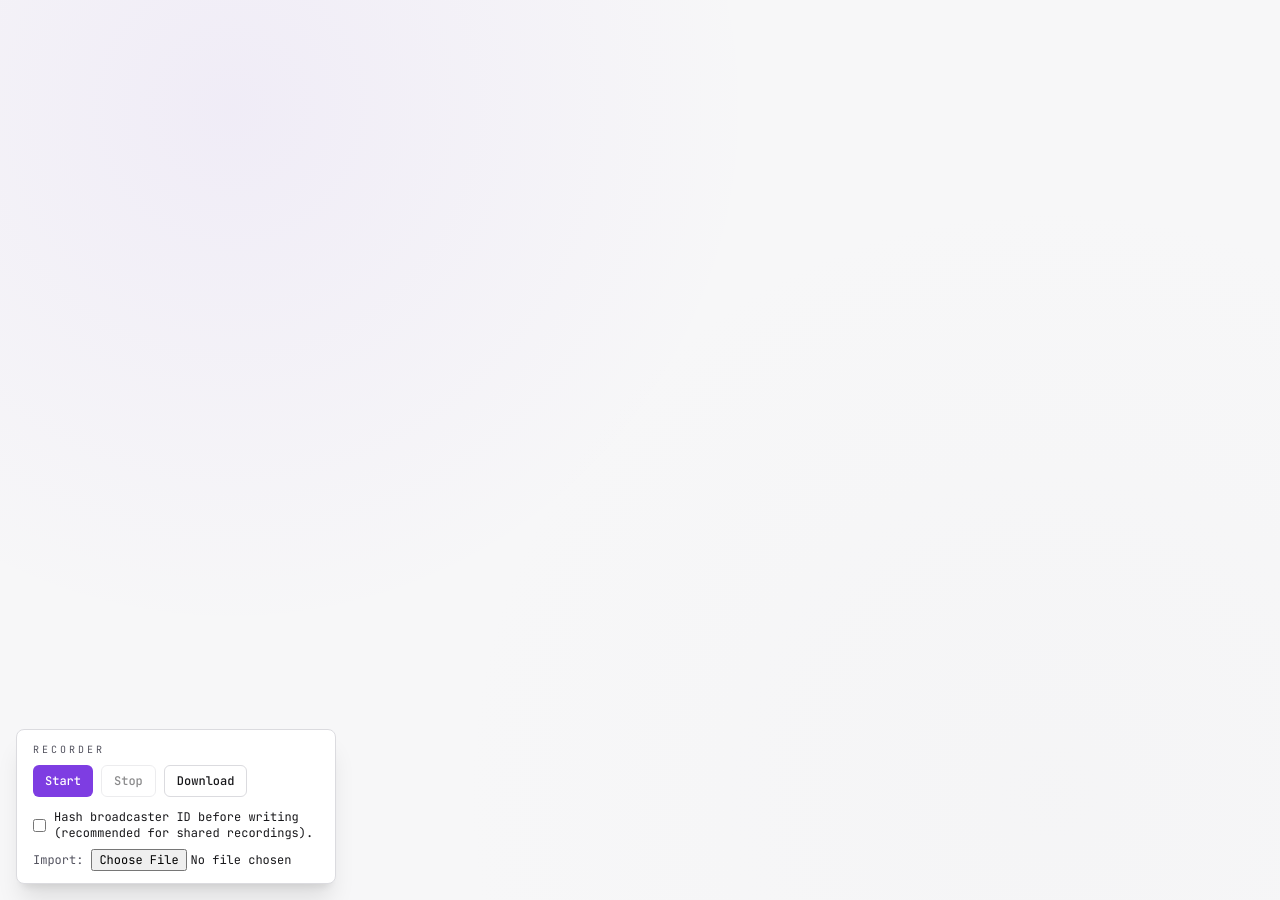
Test: RecorderControls › download reveals privacy warning banner with broadcaster-hash state
This screenshot has width=1280, height=900.
Click the button with test id "recorder-download": (206, 781) [164, 765, 247, 797]
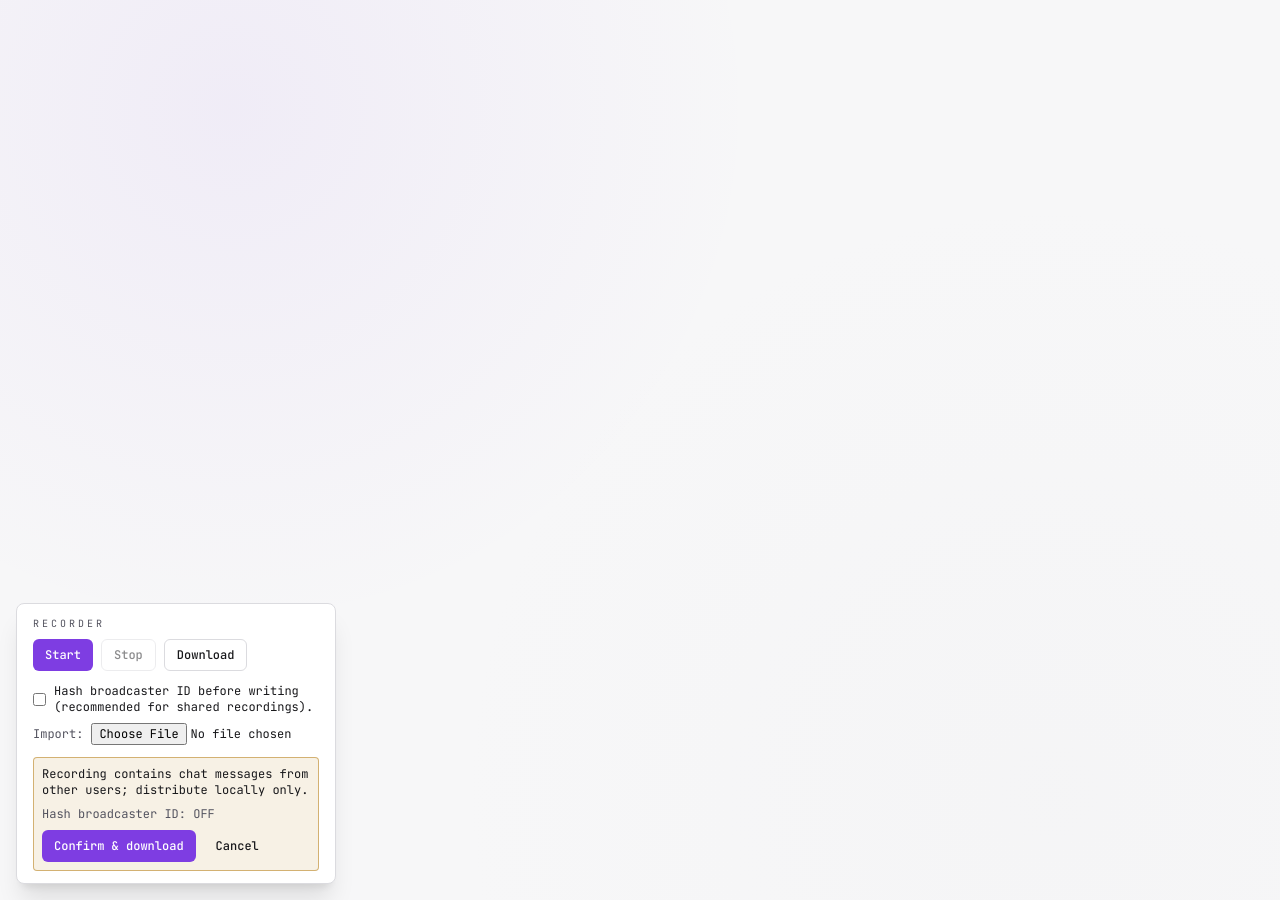
Expected: the element with test id "recorder-download-warning" is shown, [33, 757, 319, 871]
Expected: the element with test id "recorder-download-warning" shows "Recording contains chat messages from other users; distribute locally only.", [42, 766, 308, 798]
Expected: the element with test id "recorder-download-warning" shows "Hash", [42, 806, 193, 822]
